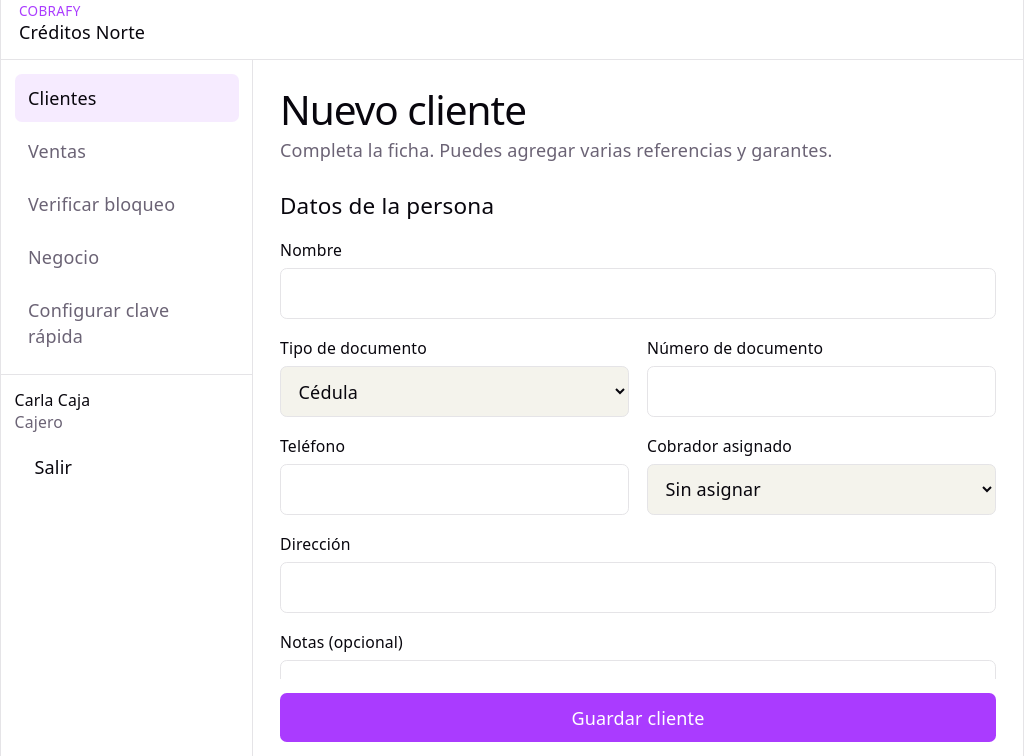
Test: CBF-215 errores de documento en el campo › pasaporte inválido en POST /clients muestra el message del backend
Expected: the heading "Nuevo cliente" is shown, x1=280 y1=82 x2=526 y2=137
Select "Pasaporte" in the dropdown labelled "Tipo de documento" at (454, 392), box x1=280 y1=366 x2=629 y2=417
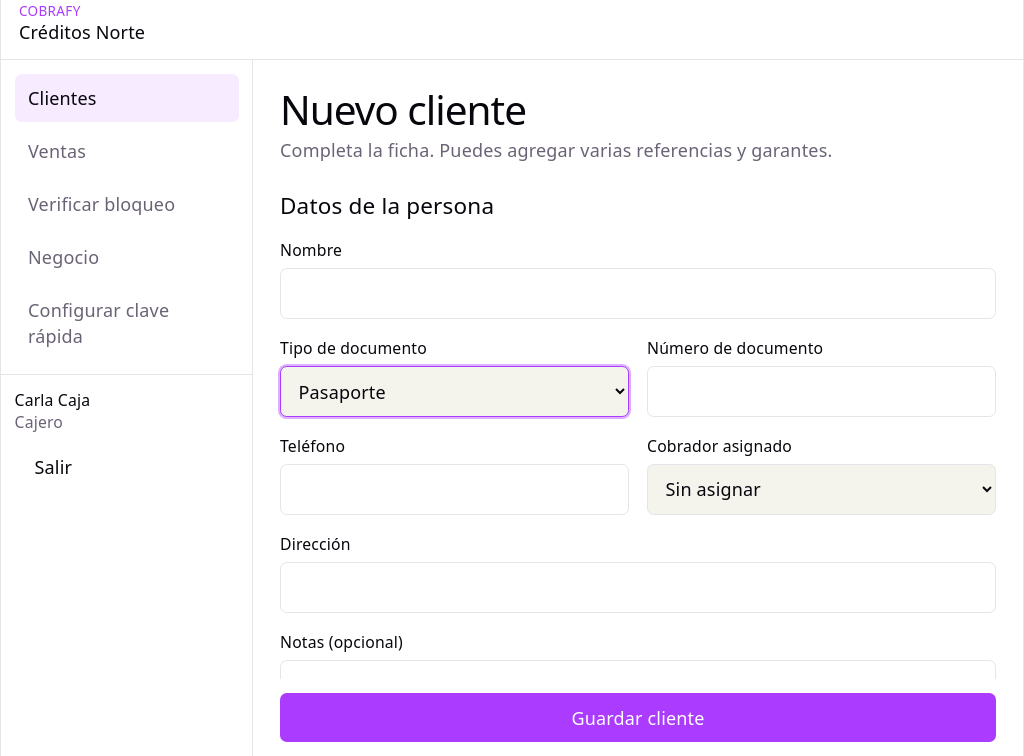
Type "Ana Pérez" into the field labelled "Nombre" at (638, 294), box x1=280 y1=268 x2=996 y2=319
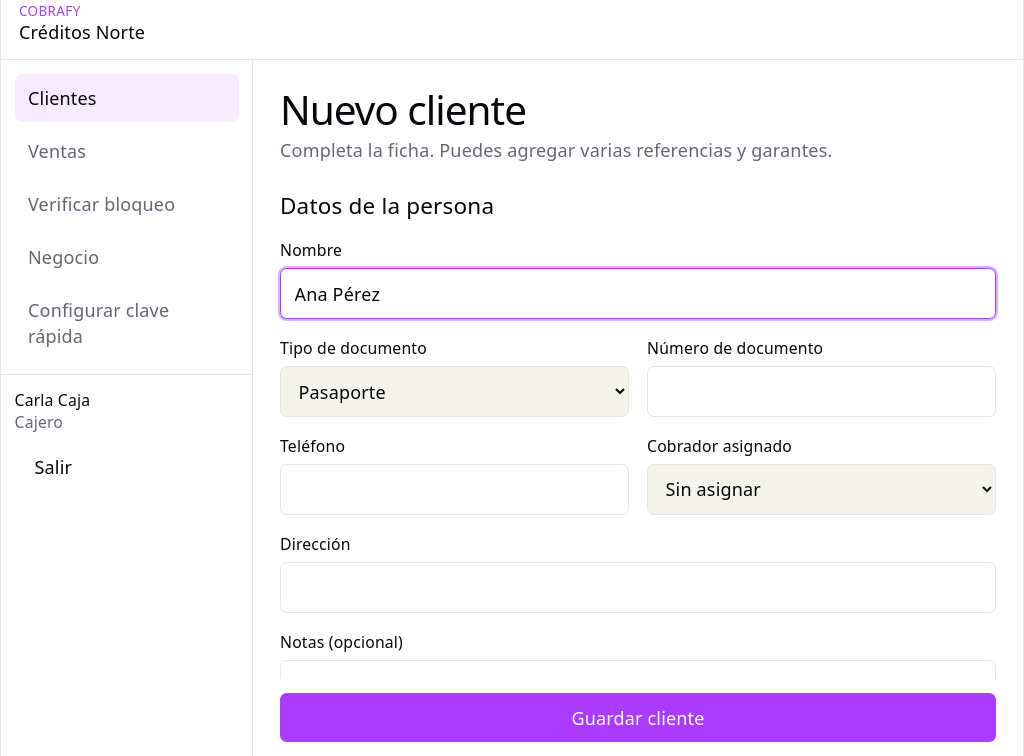
Type "AB12" into the field labelled "Número de documento" at (822, 392), box x1=647 y1=366 x2=996 y2=417
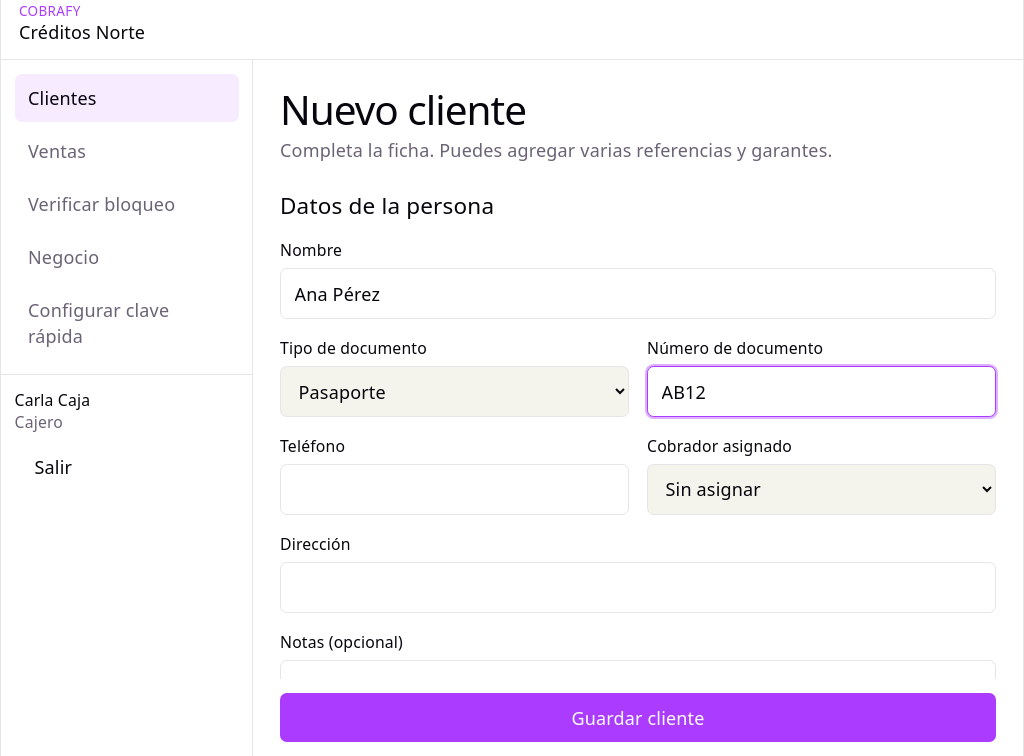
Type "8095551111" into the field labelled "Teléfono" at (454, 489), box x1=280 y1=464 x2=629 y2=515
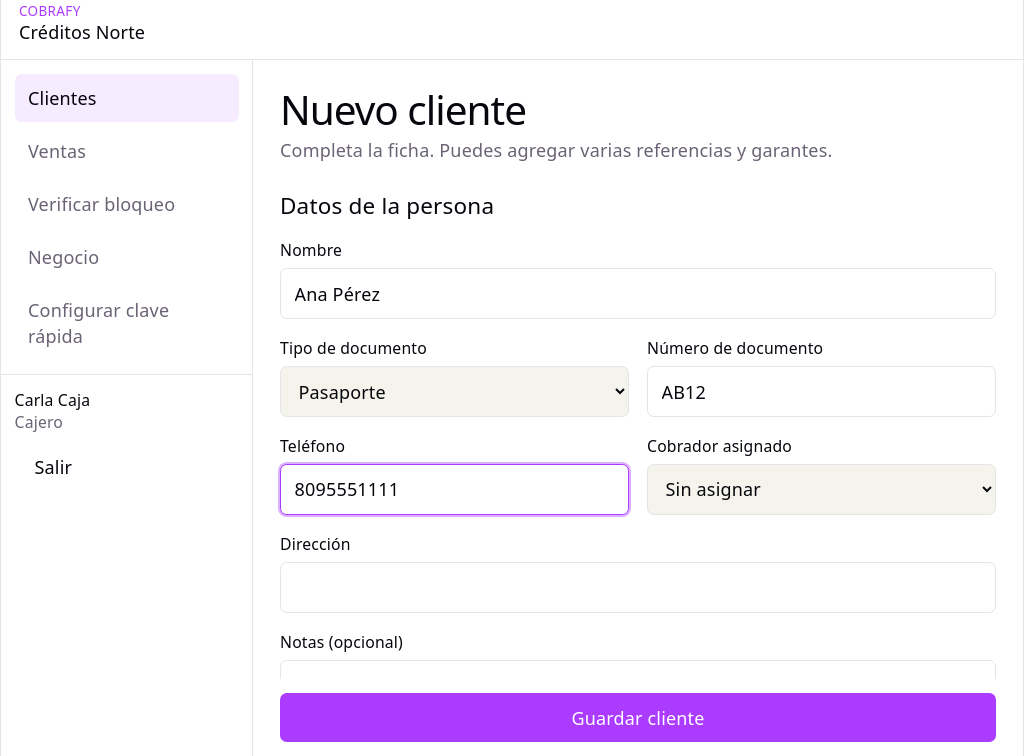
Type "Calle 1" into the field labelled "Dirección" at (638, 587), box x1=280 y1=562 x2=996 y2=613
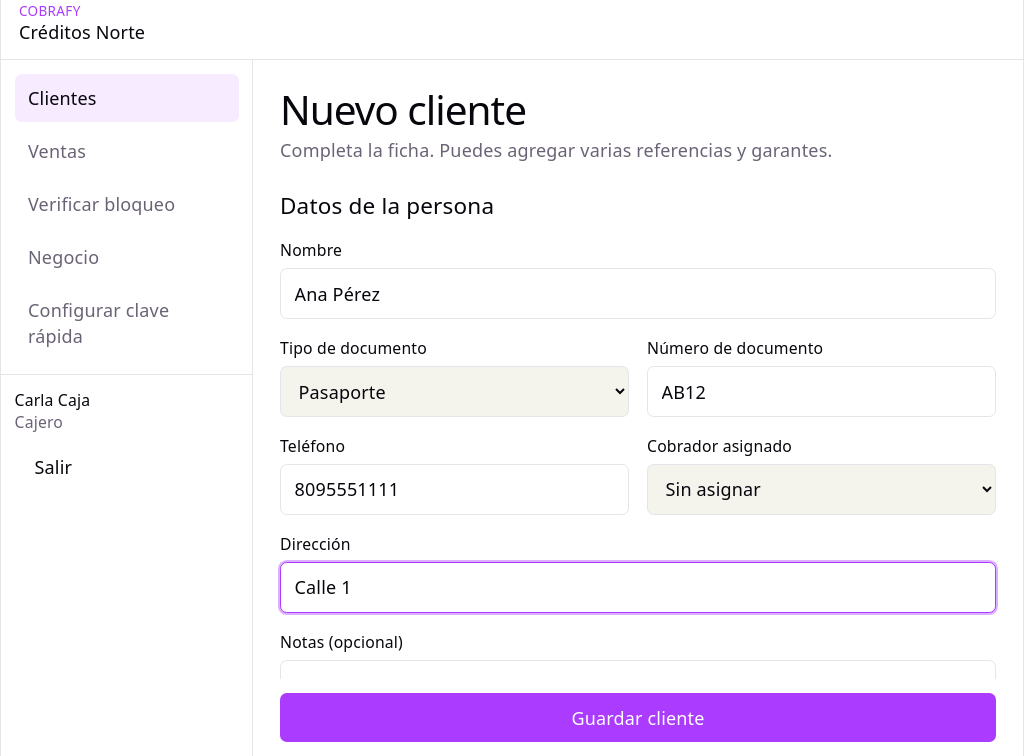
Click the button "Guardar cliente" at (638, 718), box x1=280 y1=693 x2=996 y2=742
(page scrolled)
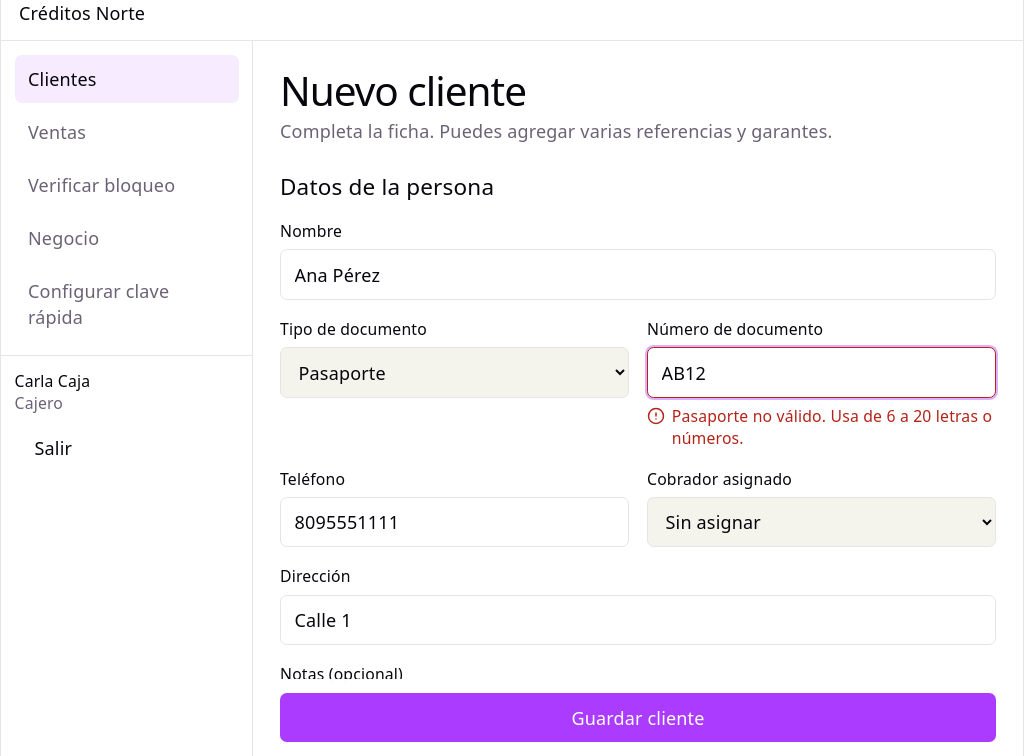
Expected: the message with id "document-error" reads "Pasaporte no válido. Usa de 6 a 20 letras o números.", x1=672 y1=405 x2=992 y2=449
